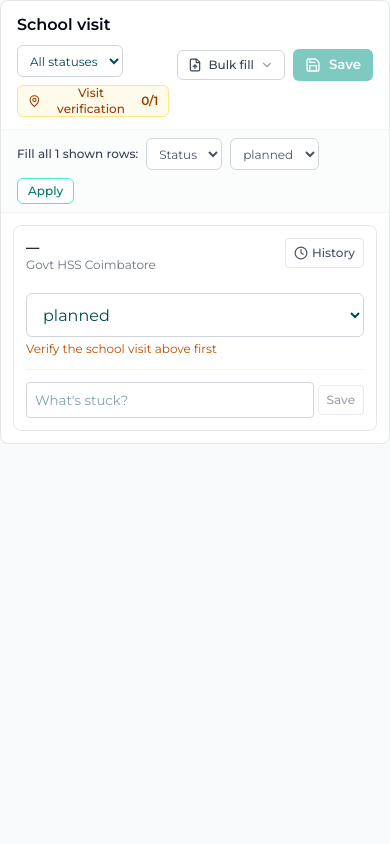
Scenario: tracker grid — the gate under a workflow task › opens the modal instead of advancing to the done stage
The width and height of the screenshot is (390, 844).
Select "done" in the dropdown below "Govt HSS Coimbatore" at coordinates (195, 315), box [26,293,364,337]
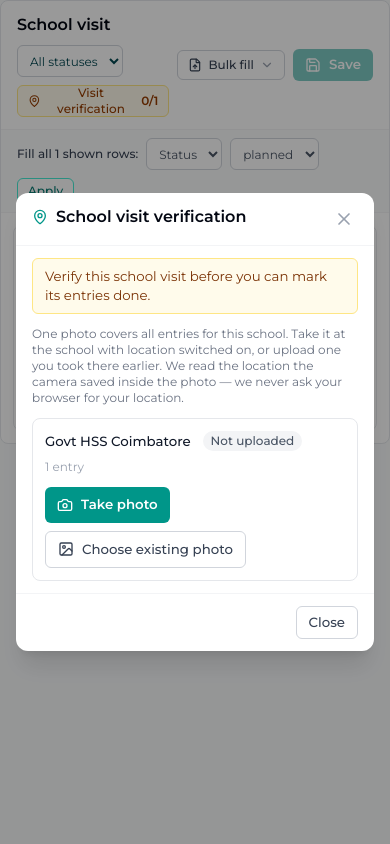
expect the dialog "School visit verification" is shown: met, box [16,193,374,651]
